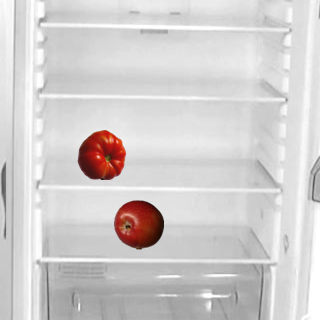Apple Braeburn: (113, 199, 163, 249)
Tomato 3: (76, 129, 126, 179)
